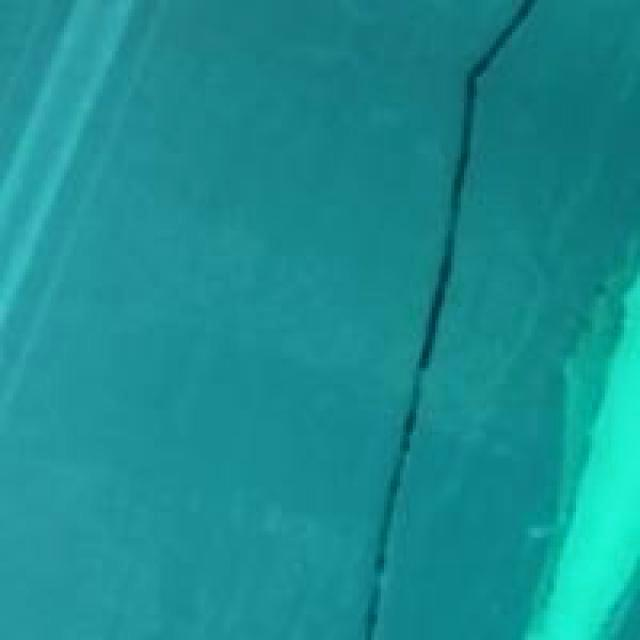crack: (346, 0, 544, 640)
